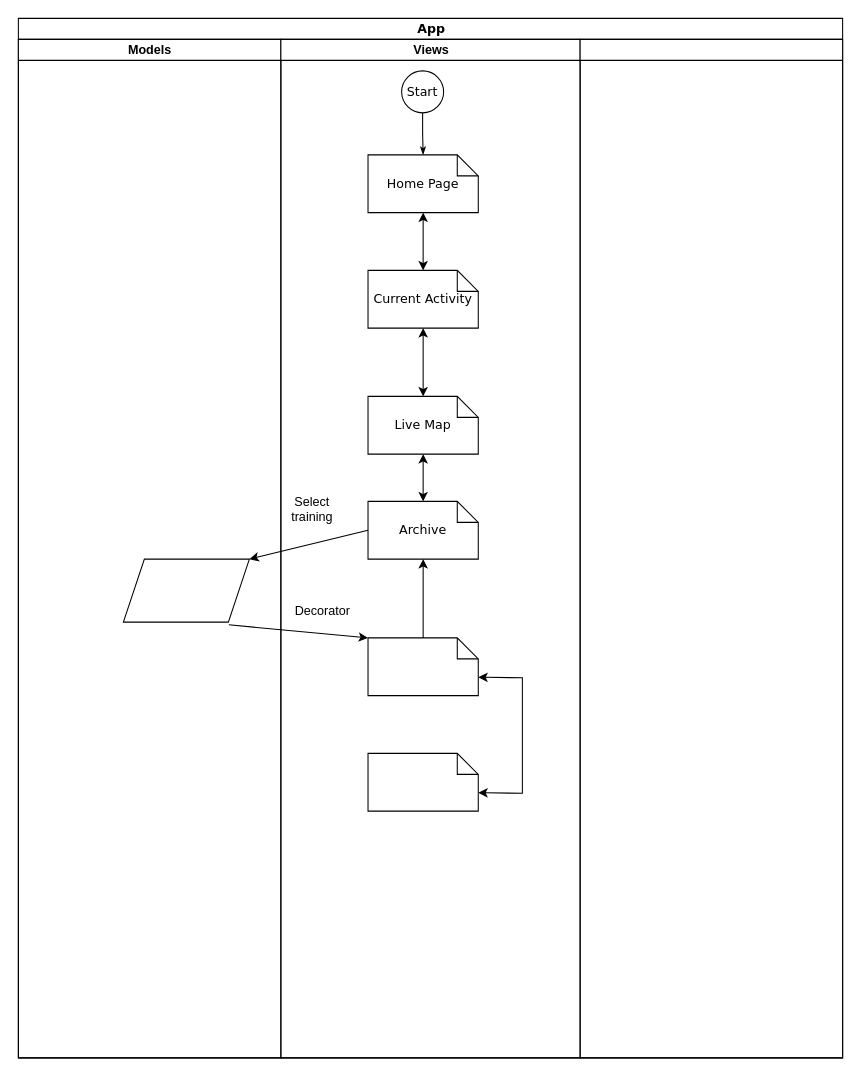
Some shapes in this 861 by 1076 pixel diagram are drawn without their labels. Here are the shapes that lost their labels. From the top down, the centre of each, then its label:
pixel 711 548: Controllers
pixel 185 590: Get training data
pixel 422 666: Training analysis
pixel 422 781: Historic Map
